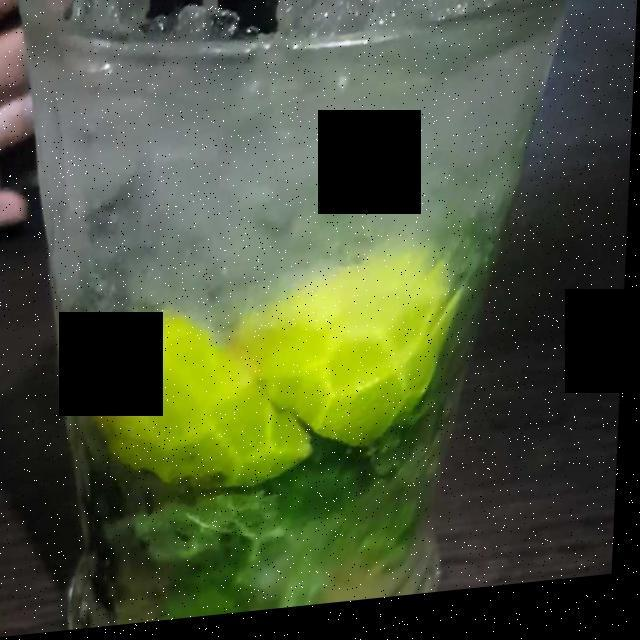drink: (31, 0, 568, 603)
